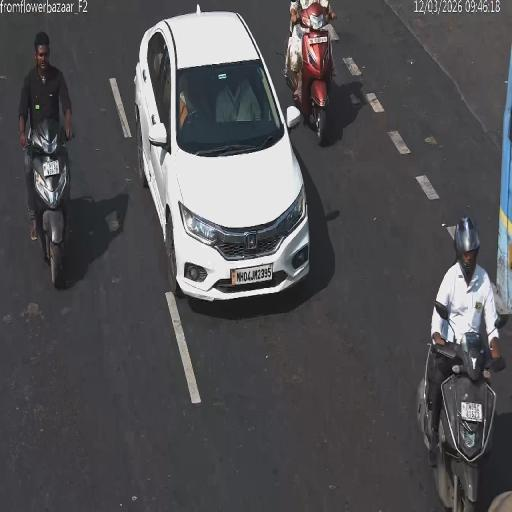person_with_seatbelt: (228, 85, 248, 120), (180, 92, 196, 112)
